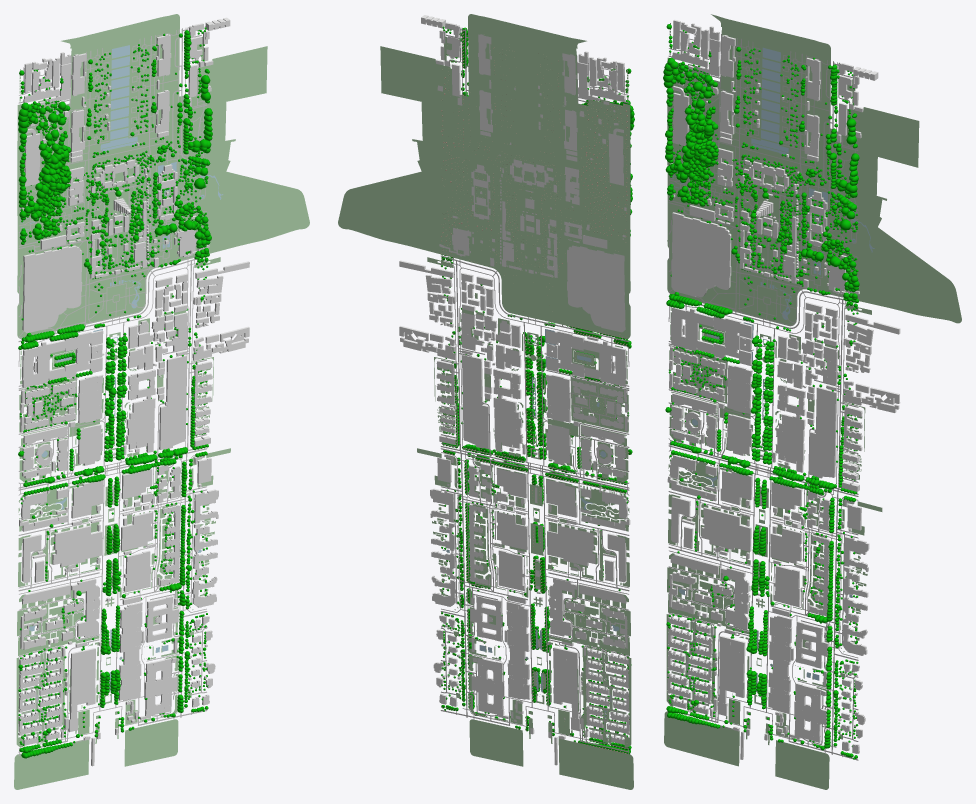
3 views of the same model, side by side, from view 1: azimuth 30°, elevation 25°; view 2: azimuth 150°, elevation 25°; view 3: azimuth 330°, elevation 25° (orthographic).
Parts seen in each view (by area): view 1: TPX_Buildings, TPX_GreenAreas, TPX_RoadsOutlines, TPX_Waterways_1; view 2: TPX_GreenAreas, TPX_Buildings, TPX_RoadsOutlines, TPX_Waterways_1; view 3: TPX_Buildings, TPX_GreenAreas, TPX_RoadsOutlines, TPX_Waterways_1.
Part boxes in pixels (x1=…): TPX_Buildings: x1=18, y1=17, x2=249, y2=766; TPX_GreenAreas: x1=14, y1=14, x2=309, y2=789; TPX_RoadsOutlines: x1=18, y1=27, x2=207, y2=755; TPX_Waterways_1: x1=21, y1=45, x2=223, y2=735; TPX_GreenAreas: x1=338, y1=14, x2=633, y2=789; TPX_Buildings: x1=399, y1=15, x2=630, y2=765; TPX_RoadsOutlines: x1=440, y1=27, x2=629, y2=753; TPX_Waterways_1: x1=442, y1=329, x2=619, y2=737; TPX_Buildings: x1=667, y1=19, x2=900, y2=759; TPX_GreenAreas: x1=664, y1=14, x2=961, y2=789; TPX_RoadsOutlines: x1=668, y1=28, x2=858, y2=760; TPX_Waterways_1: x1=670, y1=47, x2=874, y2=705.
Bounding box in the file's own units: 861 × 2064 × 65.5.
